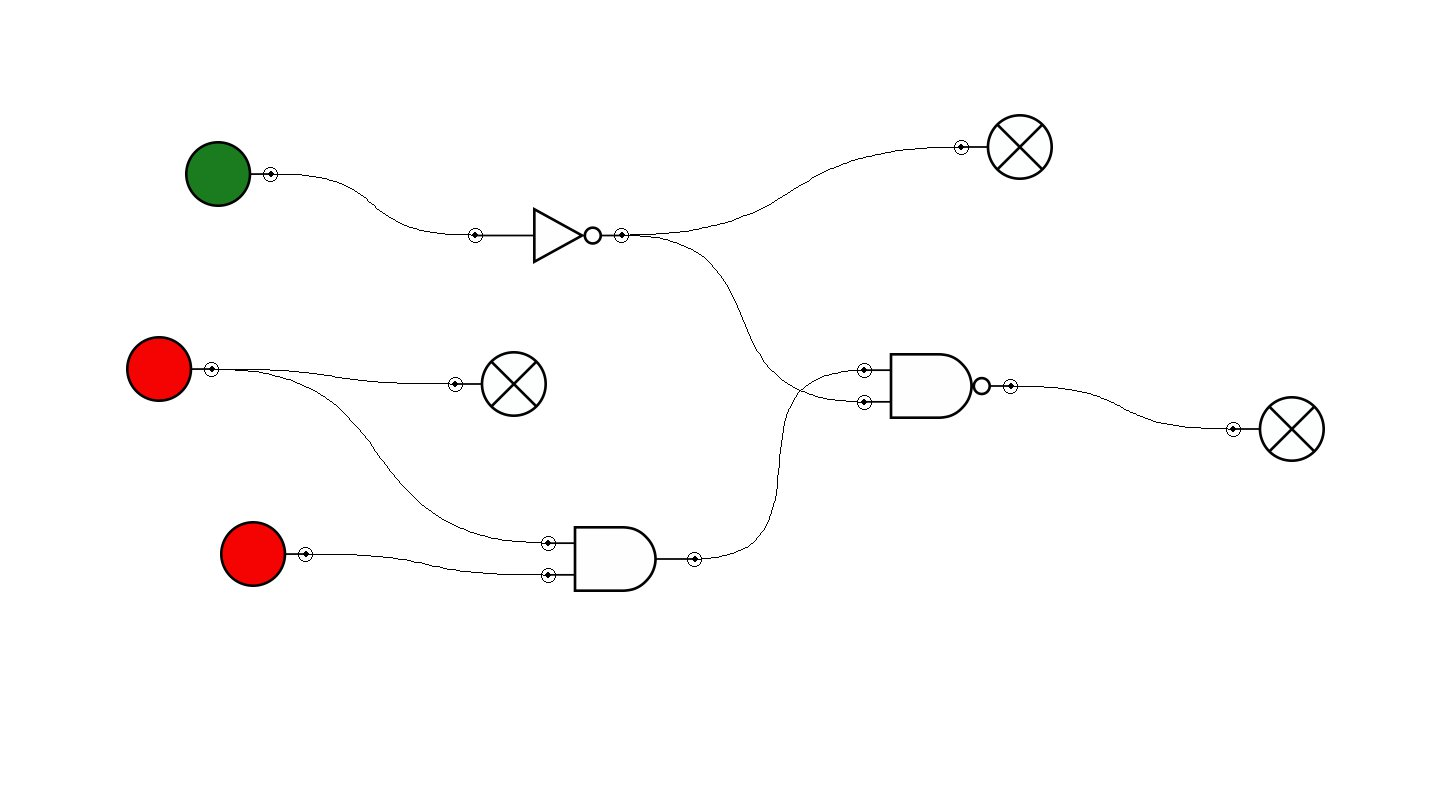and: (541, 526, 702, 592)
bulb: (448, 351, 547, 417), (954, 114, 1053, 180), (1226, 396, 1325, 462)
nand: (857, 353, 1018, 419)
not: (468, 207, 629, 264)
switch_False: (126, 336, 219, 402), (220, 521, 313, 587)
switch_True: (185, 141, 278, 207)
